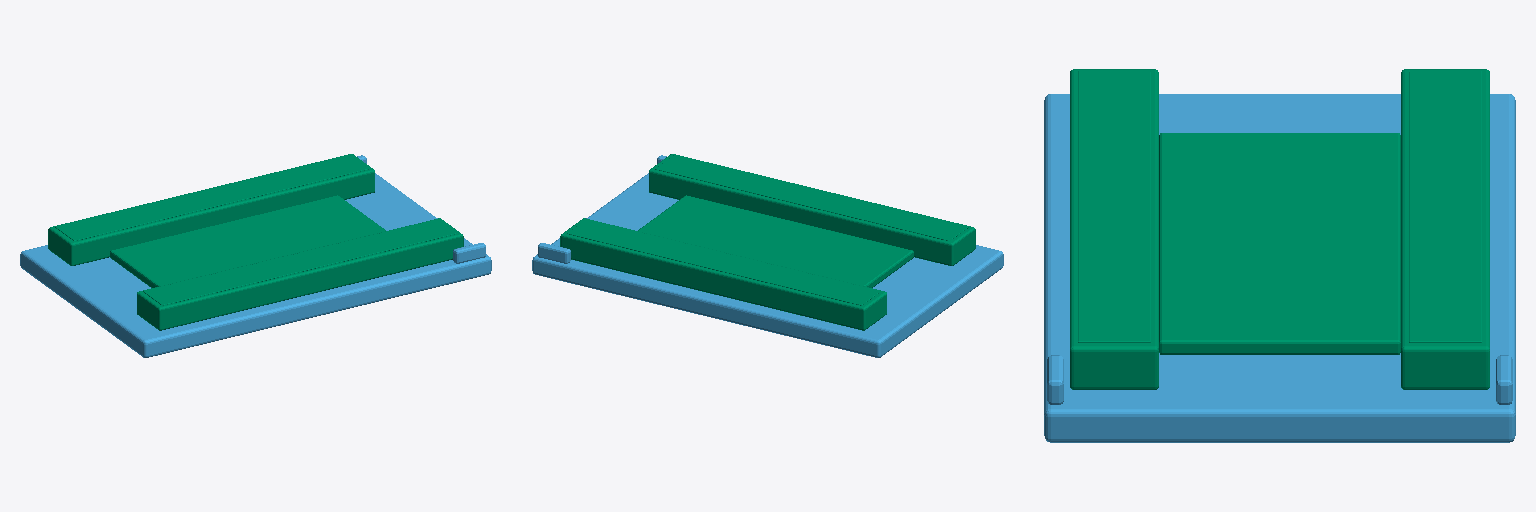
The robot description file, URDF, robot "mir_eu_pallet_lift_1350_reference":
<?xml version="1.0"?>
<robot name="mir_eu_pallet_lift_1350_reference">
<link name="mount"></link>
<link name="frame"><visual ><geometry ><mesh filename="../meshes/frame.obj"/></geometry></visual><collision ><origin xyz="0 0 0.0335" rpy="0 0 0"/><geometry ><box size="1.371 0.853 0.067"/></geometry></collision></link>
<link name="platform"><visual ><geometry ><mesh filename="../meshes/platform.obj"/></geometry></visual><collision ><origin xyz="0 -0.3 0.0435" rpy="0 0 0"/><geometry ><box size="1.2 0.162 0.087"/></geometry></collision><collision ><origin xyz="0 0.3 0.0435" rpy="0 0 0"/><geometry ><box size="1.2 0.162 0.087"/></geometry></collision></link>
<link name="pallet"></link>
<joint name="frame_joint" type="fixed"><parent link="mount"/><child link="frame"/><origin xyz="0 0 0" rpy="0 0 0"/></joint>
<joint name="lift" type="prismatic"><parent link="frame"/><child link="platform"/><origin xyz="0 0 0.067" rpy="0 0 0"/><axis xyz="0 0 1"/><limit lower="0" upper="0.06" velocity="0.015" effort="15000"/></joint>
<joint name="pallet_joint" type="fixed"><parent link="platform"/><child link="pallet"/><origin xyz="0 0 0.087" rpy="0 0 0"/></joint>
</robot>

--- What the picture shows (computed from the rendered views, not written in the file) ---
The picture shows the robot from 3 angles, left to right: view 1: azimuth 30°, elevation 25°; view 2: azimuth 150°, elevation 25°; view 3: azimuth 270°, elevation 25°; orthographic projection.
Robot: mir_eu_pallet_lift_1350_reference — 4 links, 3 joints (1 prismatic, 2 fixed); root link mount; default pose: every joint at zero.
Links seen in each view (by area): view 1: platform, frame; view 2: platform, frame; view 3: platform, frame.
Link boxes in pixels (x1,y1,x2,y2): platform: (48,154,463,330); frame: (20,155,491,357); platform: (560,154,975,330); frame: (532,155,1003,357); platform: (1070,69,1489,389); frame: (1044,94,1515,442).
Size in the robot's own frame: 1.37 by 0.853 by 0.157 metres.
2 mesh visuals loaded from 2 distinct referenced files (2 OBJ).
